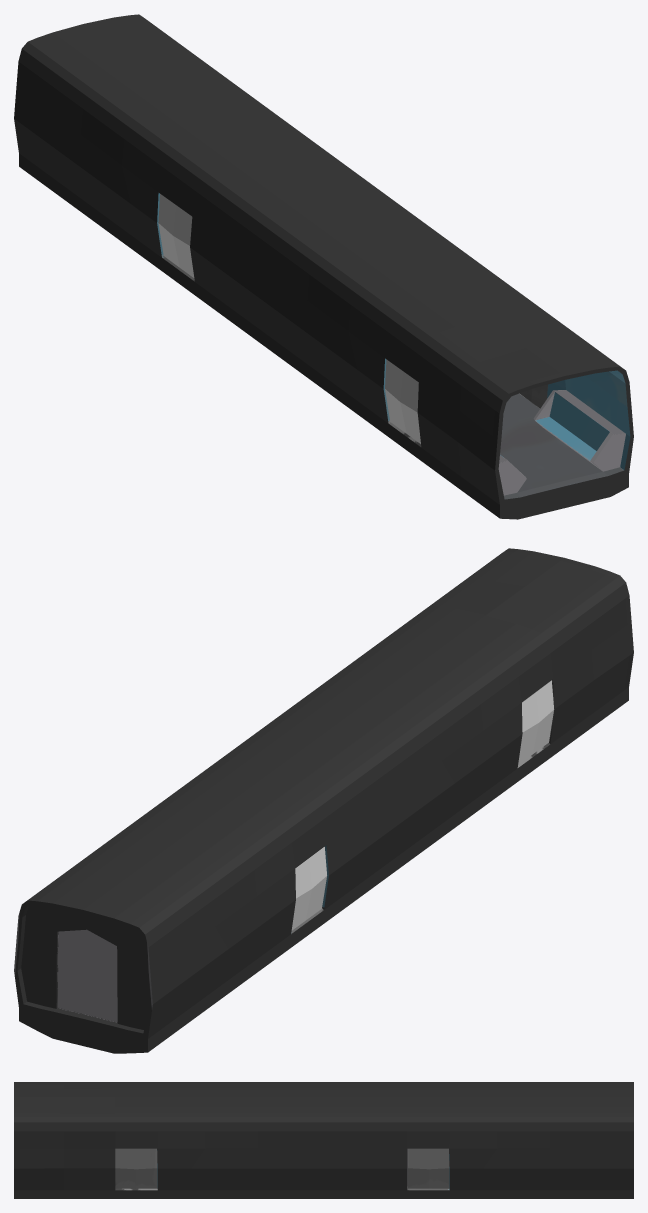
The model's file is train.fbx.
3 renders of one model, top to bottom at view 1: azimuth 30°, elevation 25°; view 2: azimuth 150°, elevation 25°; view 3: azimuth 270°, elevation 25°, orthographic. The views are drawn at different scales.
Visible parts, largest first — view 1: Train, Door.L; view 2: Train, Door.L; view 3: Train, Door.R.
Part boxes in pixels (bbox=[...]): Train: bbox=[14, 14, 633, 519]; Door.L: bbox=[158, 194, 420, 443]; Train: bbox=[14, 548, 633, 1053]; Door.L: bbox=[291, 680, 554, 930]; Train: bbox=[14, 1082, 633, 1198]; Door.R: bbox=[115, 1148, 449, 1188].
Size of the model in its own units: 111 by 104 by 665.
1 material, 1 textured.
